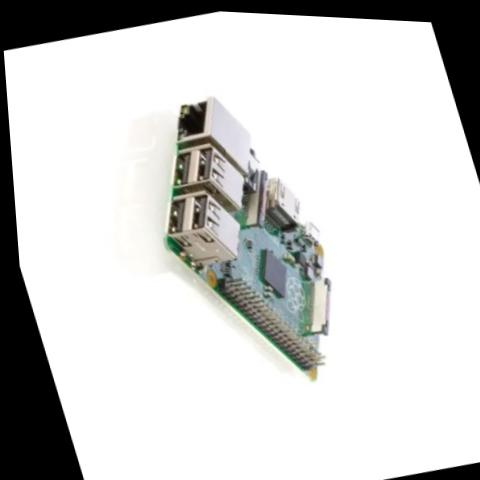Raspberry-Pi-1-Model-B-: (112, 65, 367, 412)
